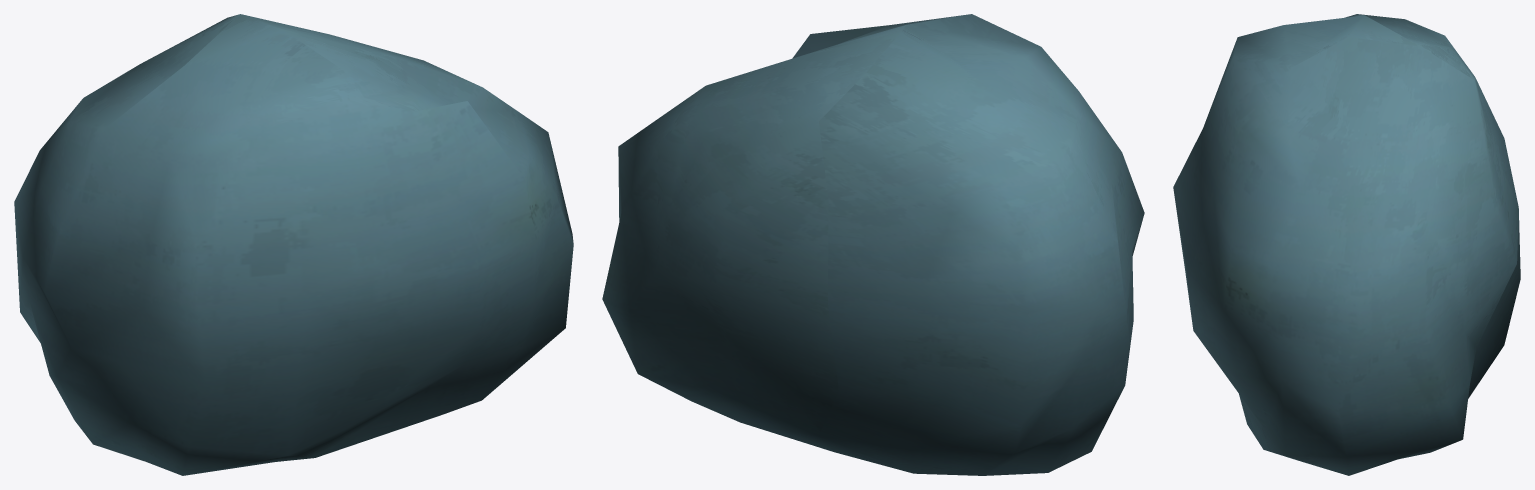
File: iwa.fbx
3 renders of one model, left to right at view 1: azimuth 30°, elevation 25°; view 2: azimuth 150°, elevation 25°; view 3: azimuth 270°, elevation 25°, orthographic. The views are drawn at different scales.
Parts seen in each view (by area): view 1: pCube1; view 2: pCube1; view 3: pCube1.
Part boxes in pixels (left/top/right/bottom): pCube1: left=14, top=14, right=573, bottom=475; pCube1: left=602, top=14, right=1144, bottom=475; pCube1: left=1173, top=14, right=1520, bottom=475.
Bounding box in the file's own units: 716 × 506 × 455.
